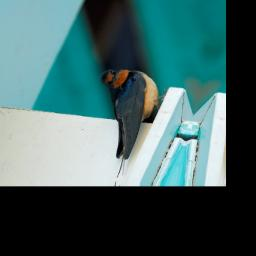Swallow: (69, 63, 172, 180)
